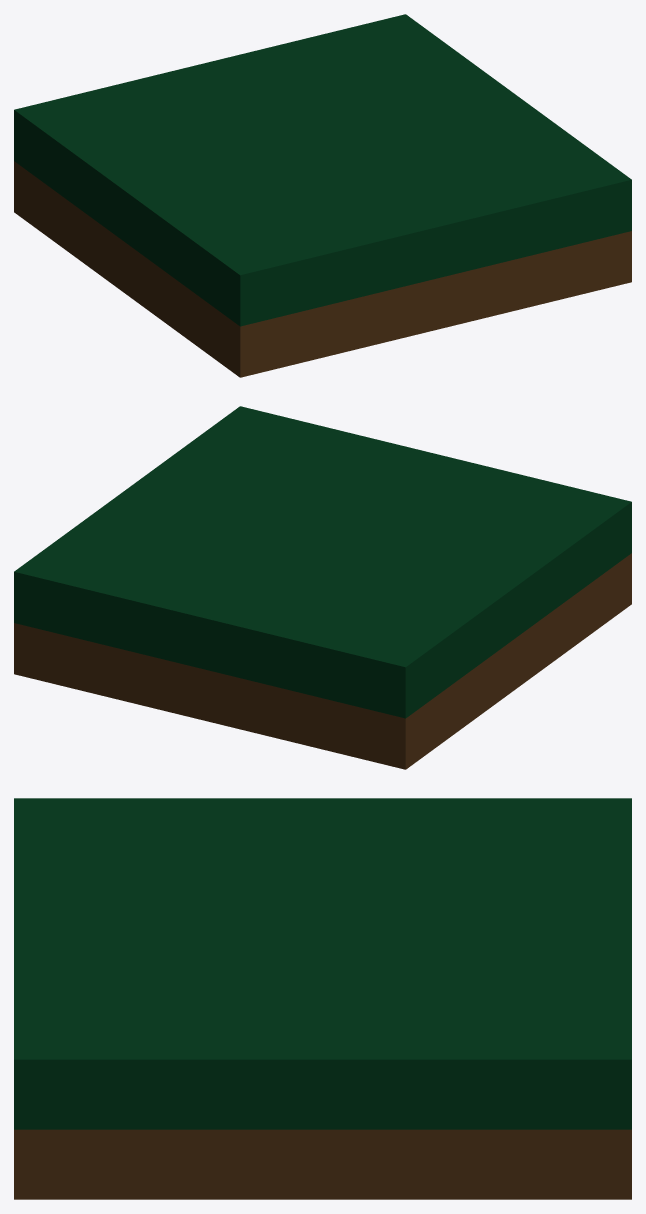
Rendered from Block_0.fbx.
3 views of the same model, one above another, from view 1: azimuth 30°, elevation 25°; view 2: azimuth 150°, elevation 25°; view 3: azimuth 270°, elevation 25° (orthographic). The views are drawn at different scales.
Parts seen in each view (by area): view 1: Block_0; view 2: Block_0; view 3: Block_0.
Boxes of the visible parts, left/top/right/bottom form: Block_0: left=14, top=14, right=631, bottom=377; Block_0: left=14, top=406, right=631, bottom=769; Block_0: left=14, top=798, right=631, bottom=1199.
Bounding box in the file's own units: 400 × 100 × 400.
